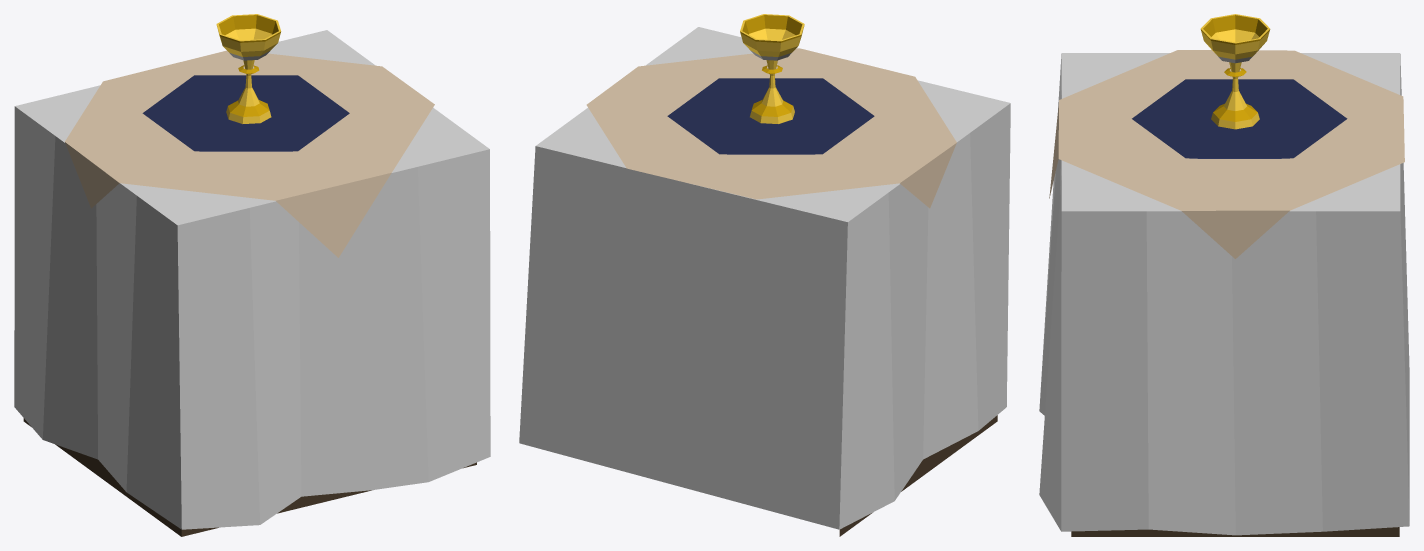
Rendered from ChurchSmallTable.glb.
3 renders of one model, left to right at view 1: azimuth 30°, elevation 25°; view 2: azimuth 150°, elevation 25°; view 3: azimuth 270°, elevation 25°, orthographic. The views are drawn at different scales.
Parts seen in each view (by area): view 1: ChaliceTable; view 2: ChaliceTable; view 3: ChaliceTable.
Part boxes in pixels (bbox=[...]): ChaliceTable: bbox=[14, 14, 490, 536]; ChaliceTable: bbox=[519, 14, 1010, 536]; ChaliceTable: bbox=[1039, 14, 1409, 536].
Bounding box in the file's own units: 0.8144 × 0.9591 × 0.7441.
Materials: 1 (1 with a texture image).
